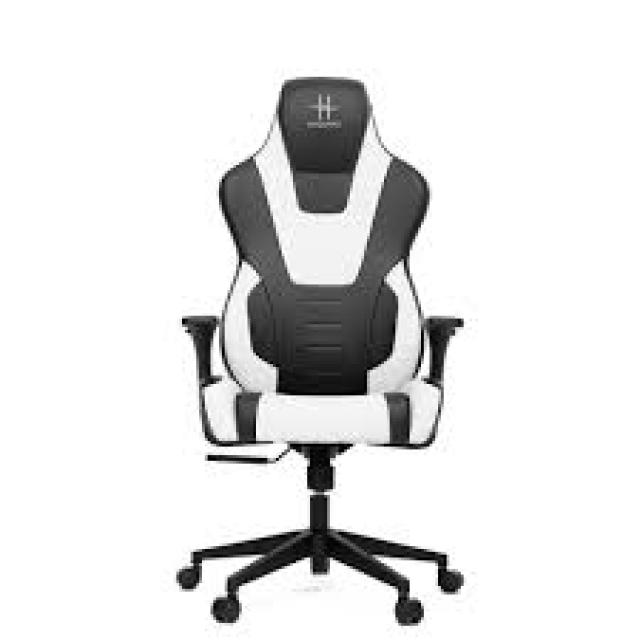bottle: (178, 72, 470, 628)
